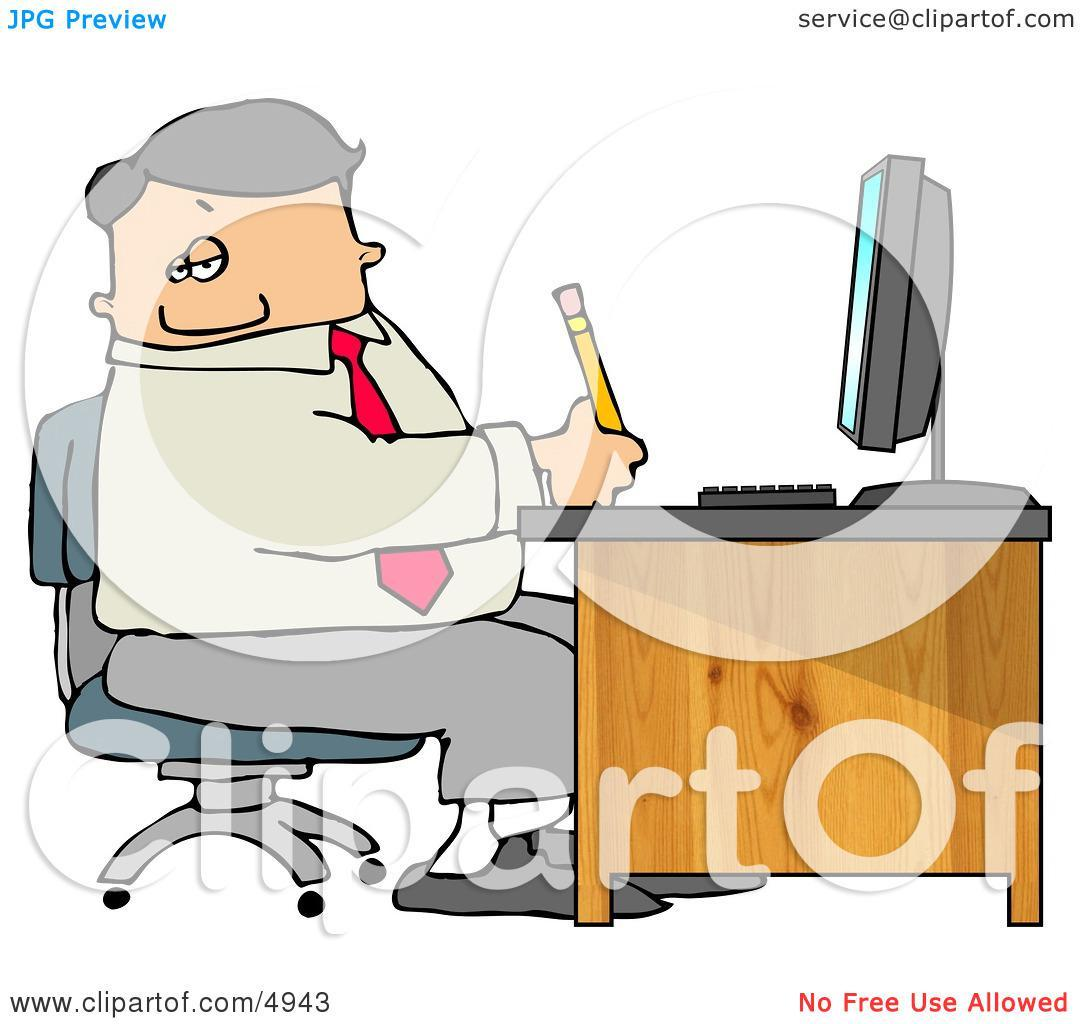chair: (21, 385, 427, 907)
person: (68, 95, 767, 922)
tvmonitor: (823, 147, 1043, 507)
